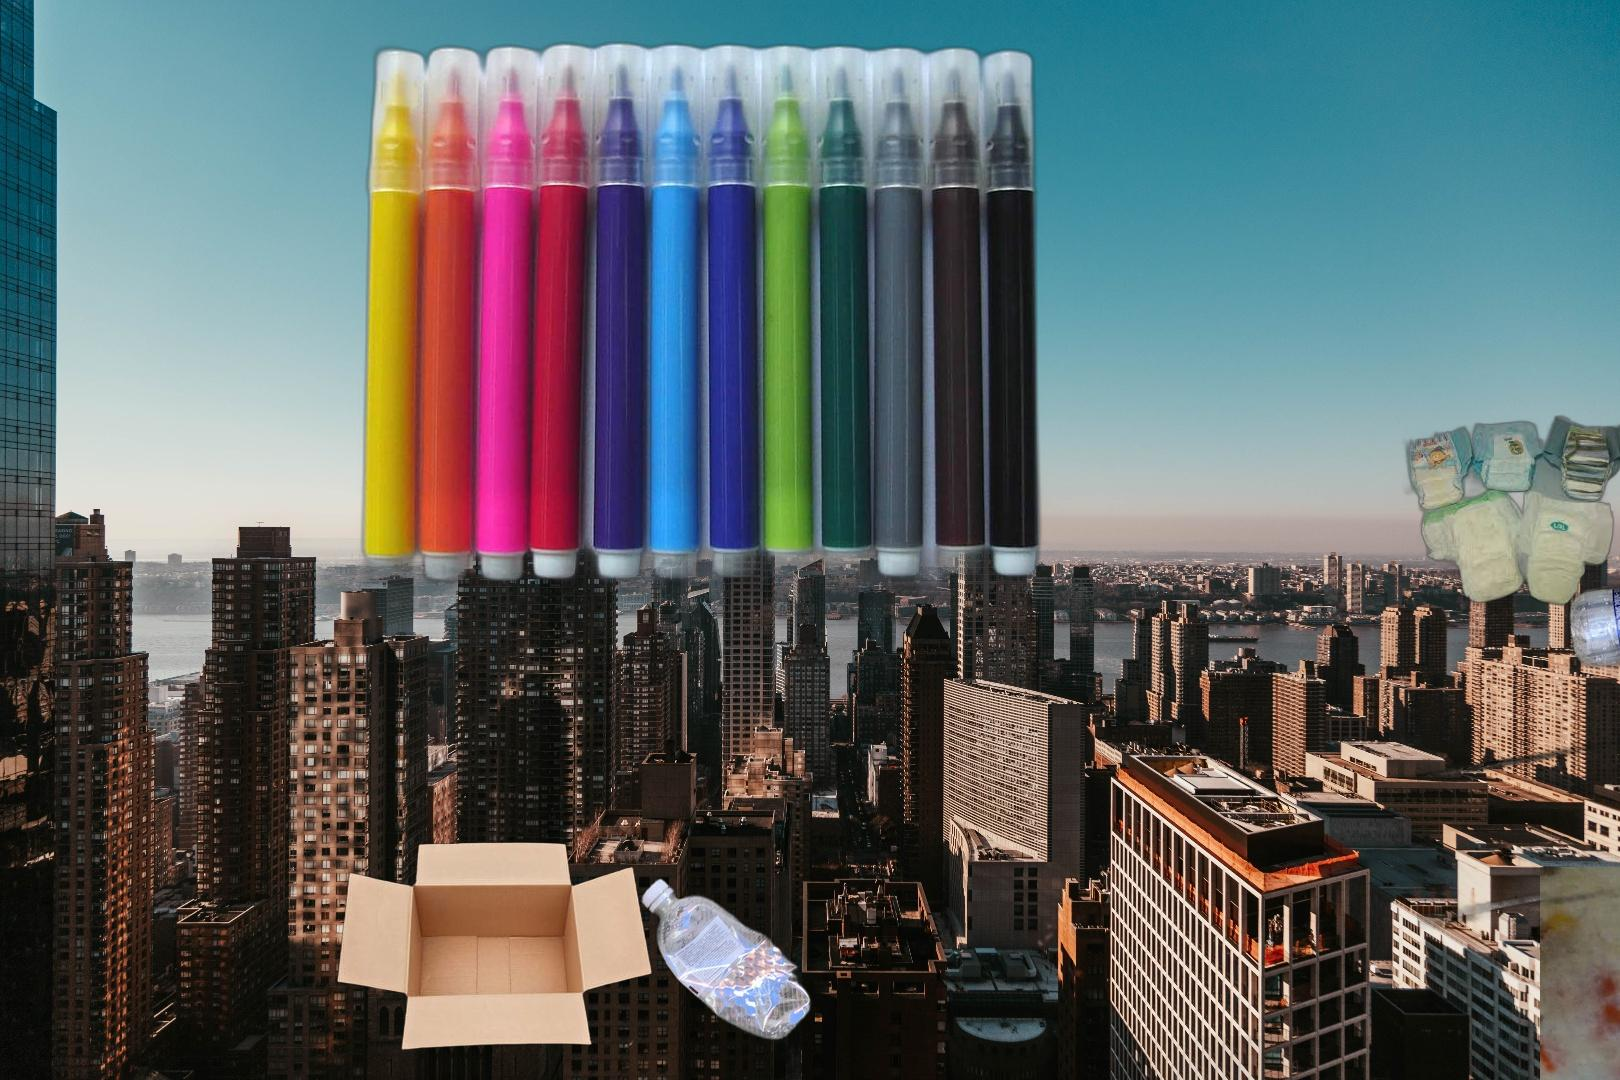biological: (1540, 867, 1620, 1080)
penholder: (315, 35, 1114, 700)
plastic-bottles: (1417, 284, 1620, 968), (638, 871, 816, 1046)
trash: (1402, 413, 1620, 607)
trashbox-cardboard: (335, 841, 656, 1052), (268, 1035, 1620, 1080)
